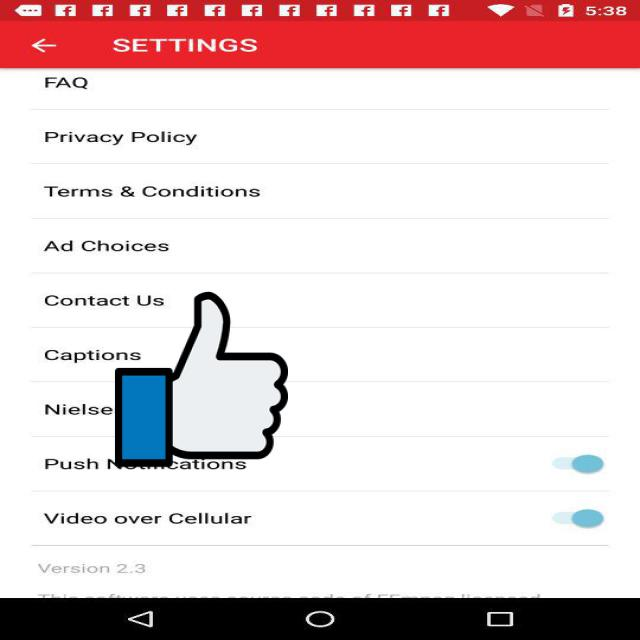privacy zuckering: (115, 288, 288, 471)
